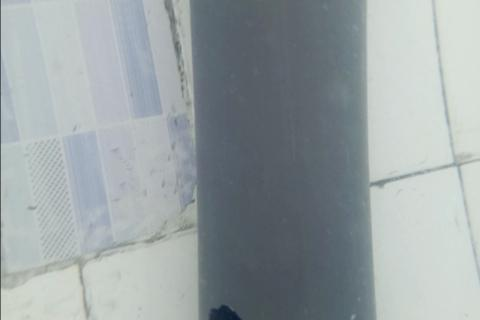kebocoran: (206, 301, 241, 320)
